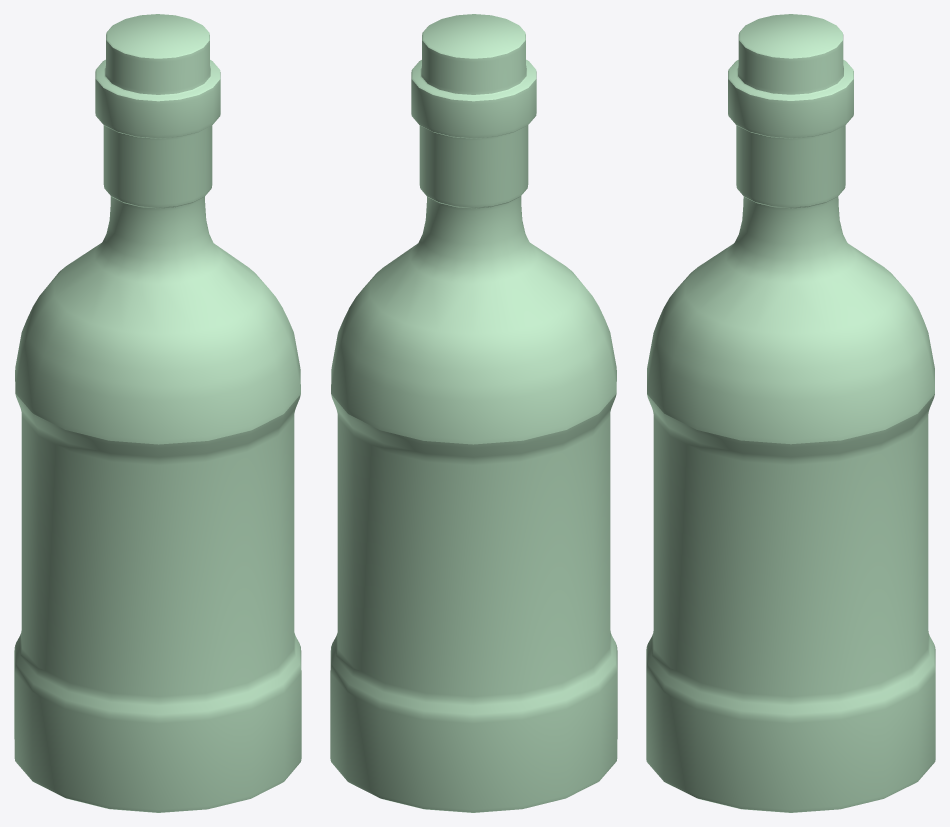
The model's file is whisky botttle.glb.
3 renders of one model, left to right at view 1: azimuth 30°, elevation 25°; view 2: azimuth 150°, elevation 25°; view 3: azimuth 270°, elevation 25°, orthographic.
Parts seen in each view (by area): view 1: whisky bottle; view 2: whisky bottle; view 3: whisky bottle.
Boxes of the visible parts, bbox=[...] form: whisky bottle: bbox=[14, 14, 301, 812]; whisky bottle: bbox=[330, 14, 617, 812]; whisky bottle: bbox=[646, 14, 935, 812].
Size of the model in its own units: 1.27 by 3.46 by 1.27.
